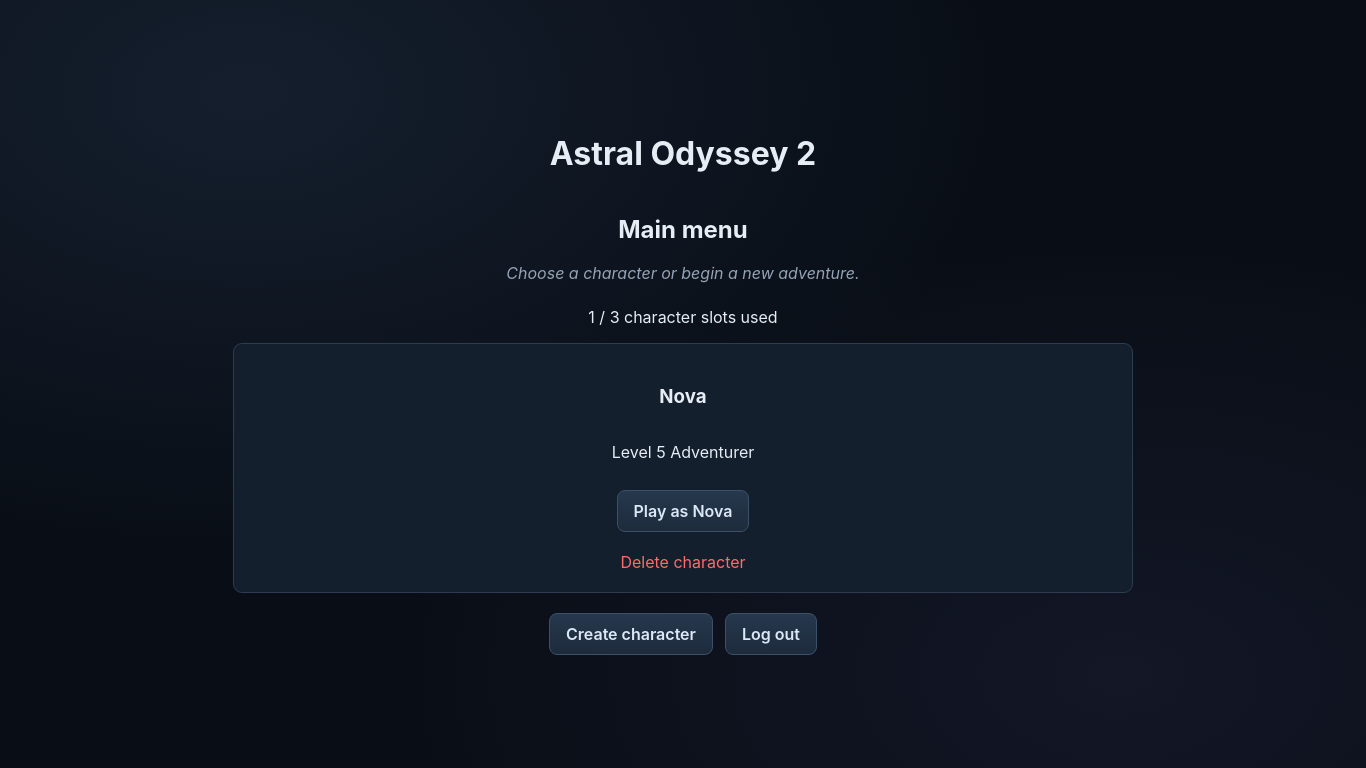
pending deletion cannot be submitted twice or dismissed
Click the button with aria-label "Delete Nova".
click(683, 552)  # box [620, 532, 746, 572]
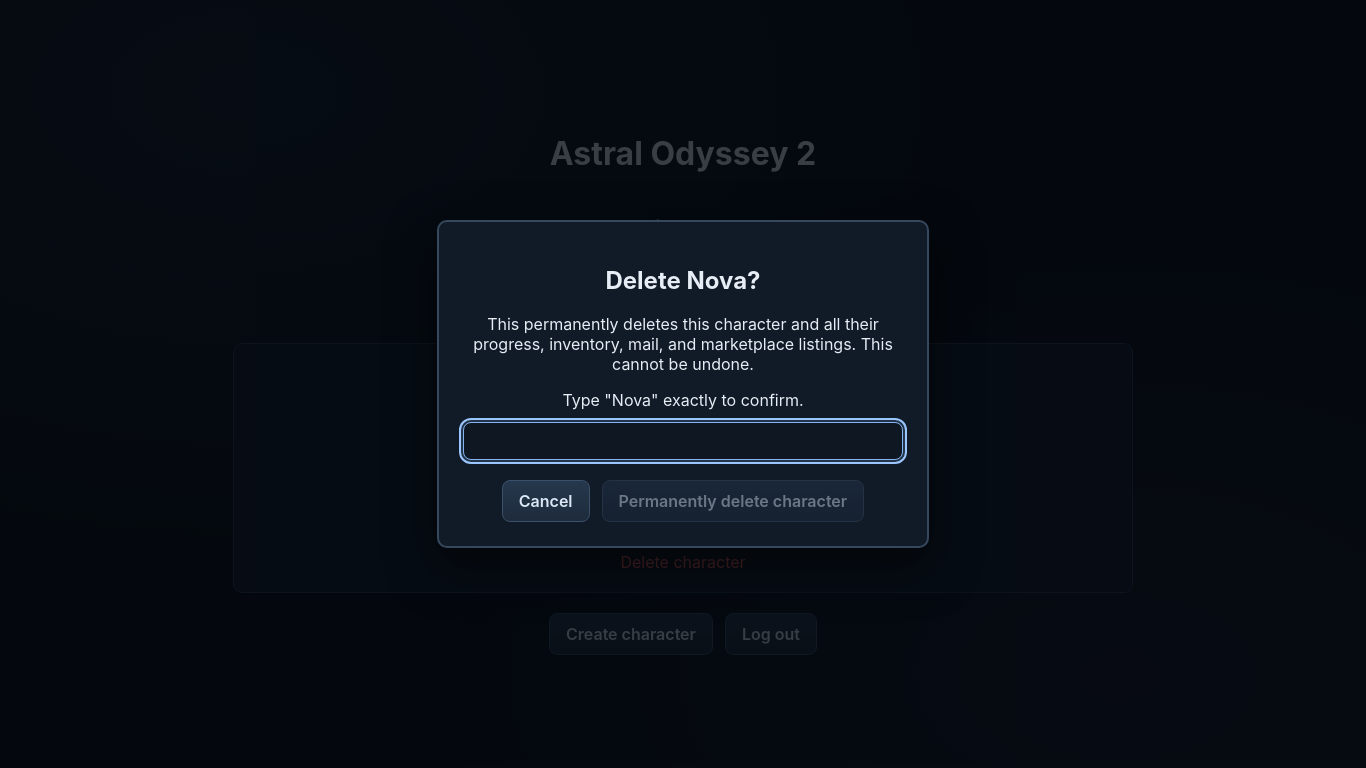
Type "Nova" into the field.
click(683, 441); type("Nova")  # box [463, 422, 903, 460]
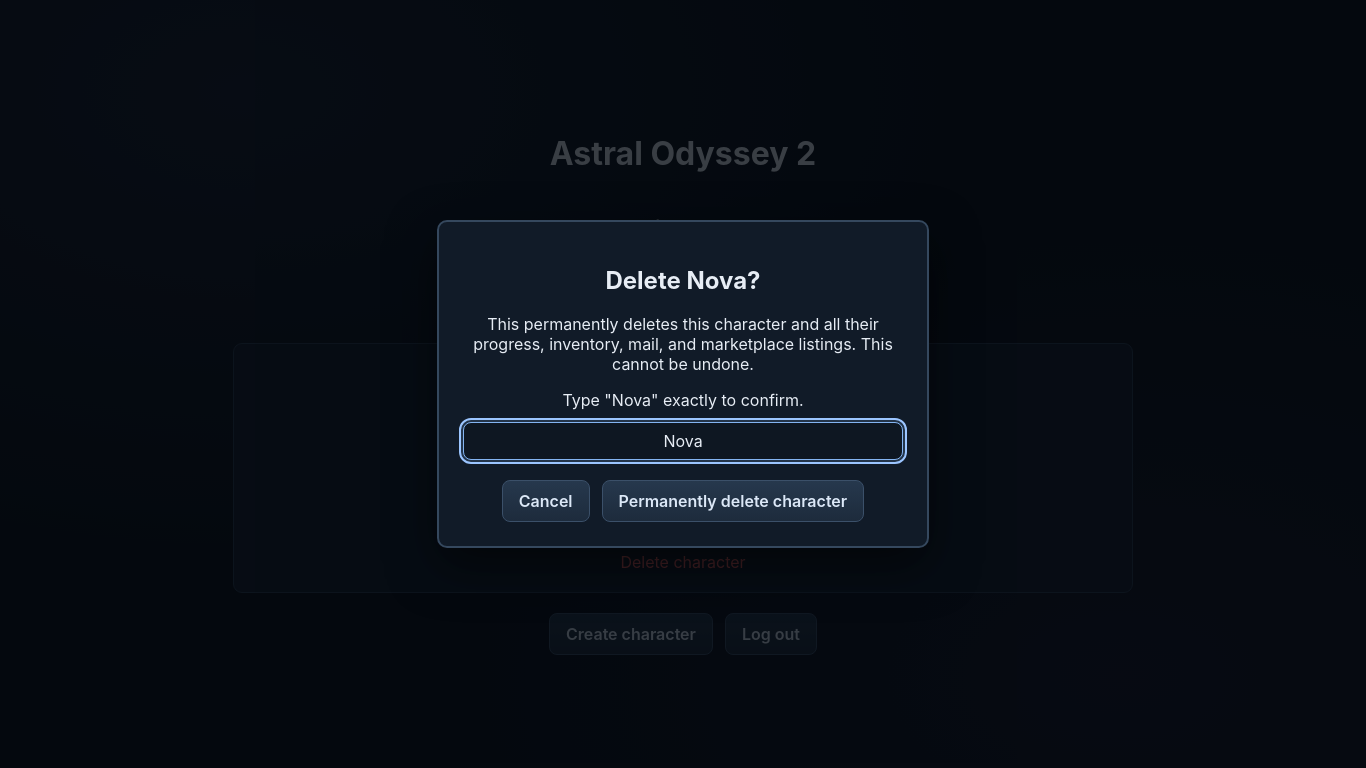
Click the button "Permanently delete character".
click(733, 501)  # box [602, 480, 864, 522]
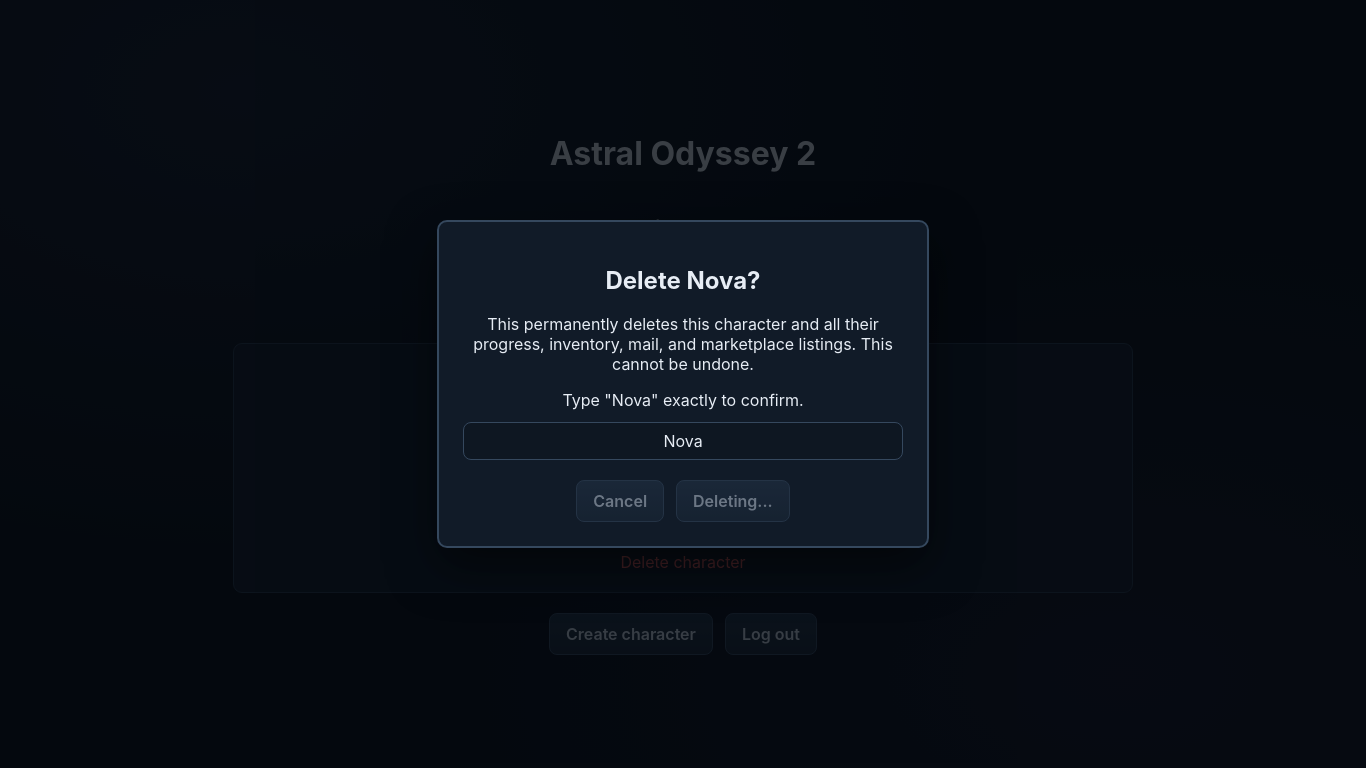
expect the button "Cancel" is disabled: met, box [576, 480, 664, 522]
Submit the form, box [463, 266, 903, 522]
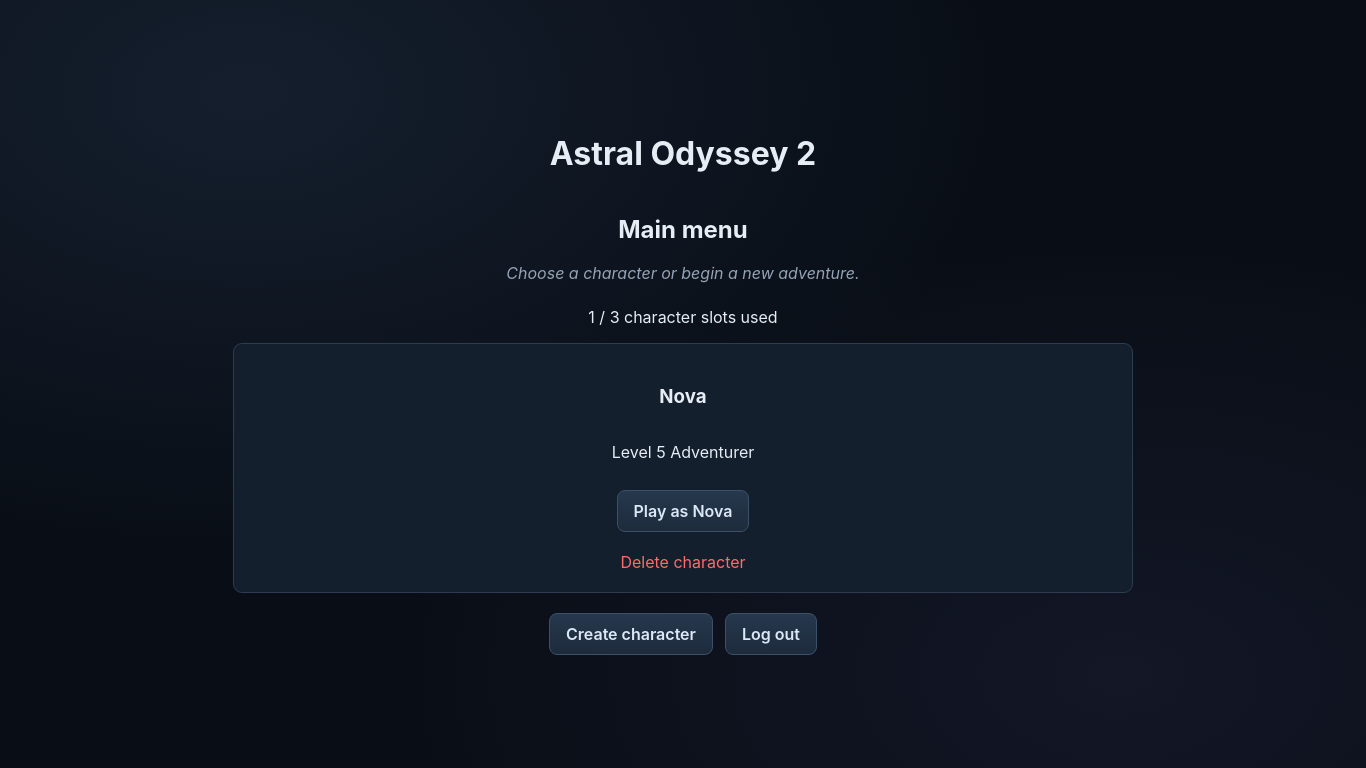
expect the dialog is gone: met
